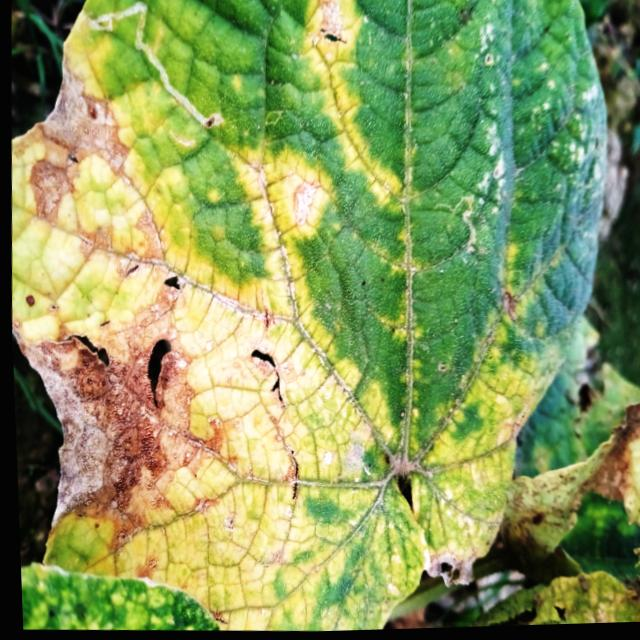Gummy-Stem-Blight: (12, 292, 230, 556), (14, 48, 129, 223)
